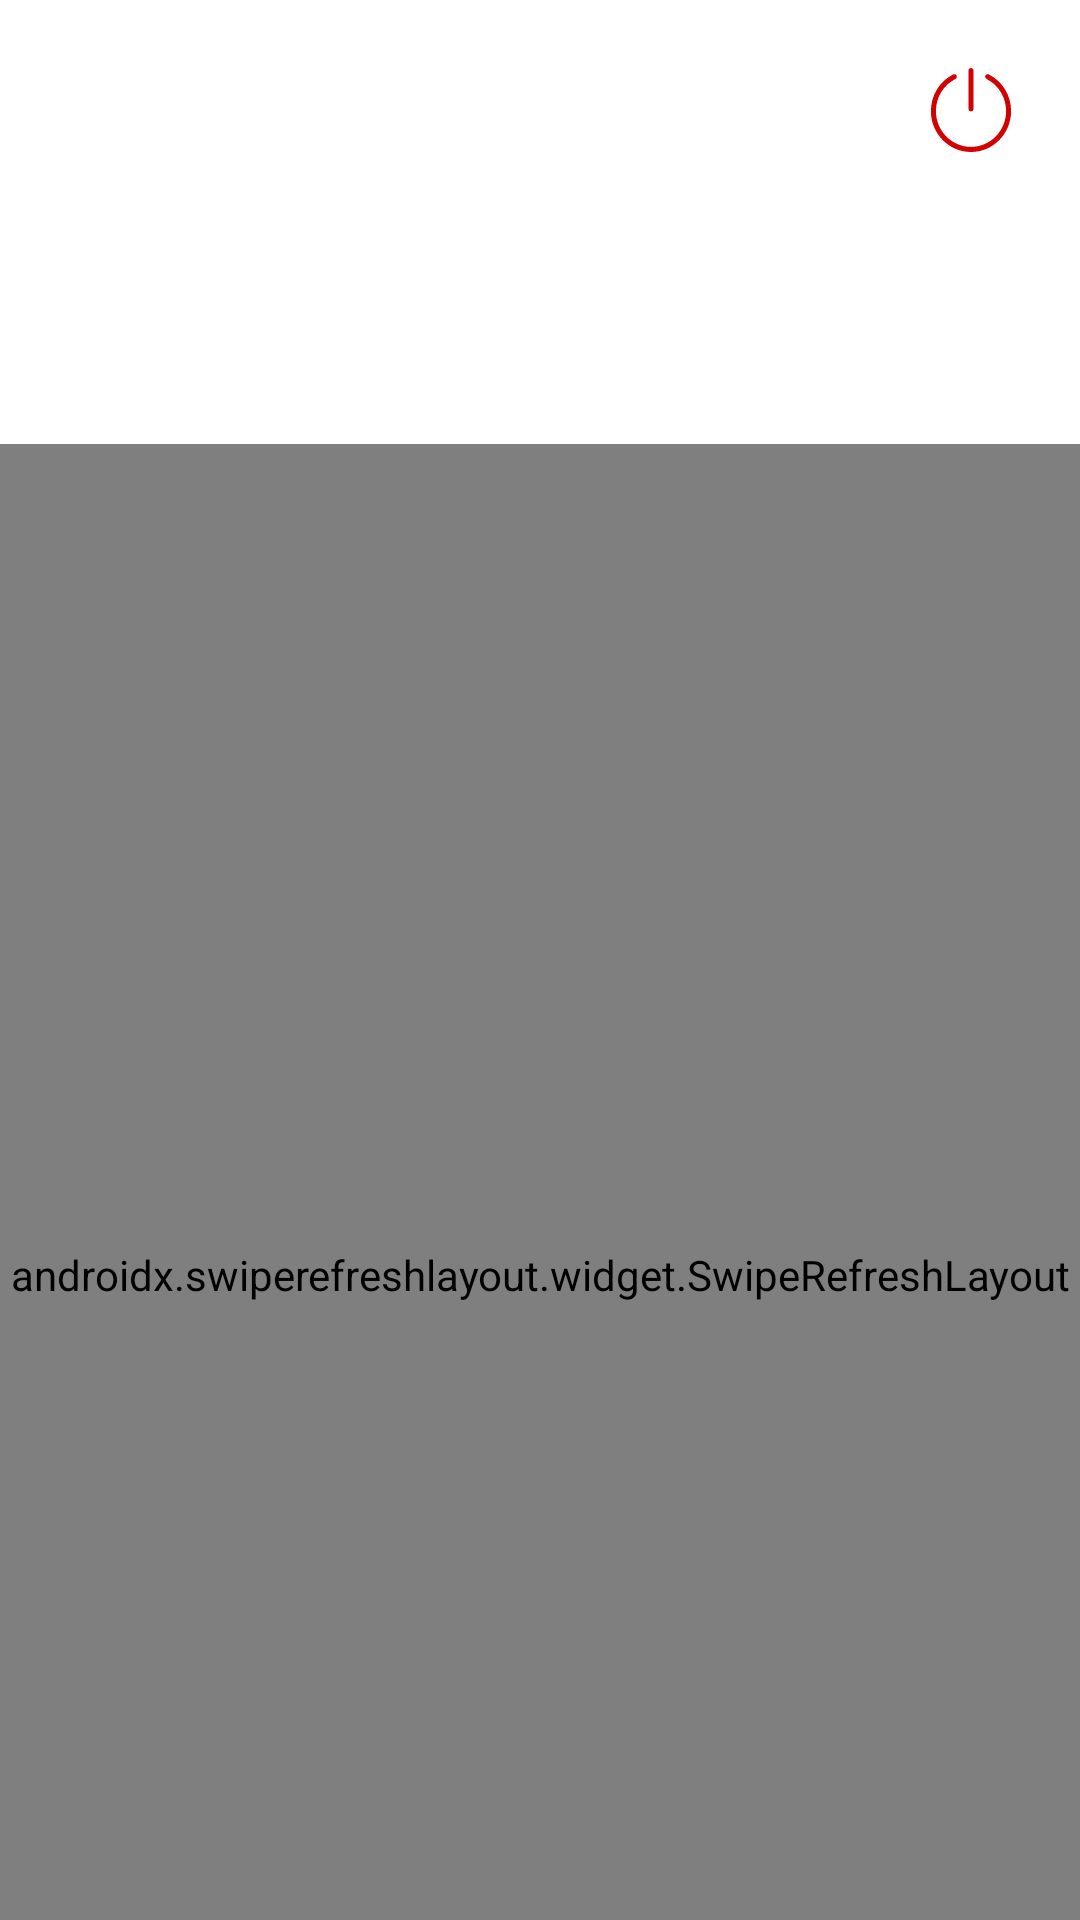

Icons on this 1080*1920 Android screen, each with the point to tap as (x=x, y=y):
Quit button: (x=971, y=110)
